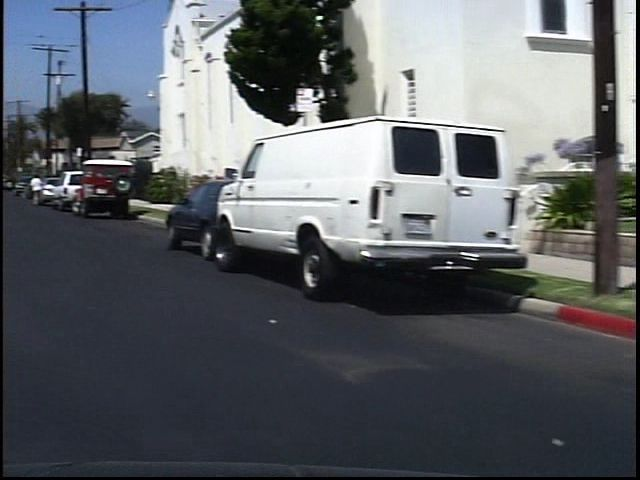car: (218, 104, 529, 304), (164, 176, 224, 254), (73, 159, 140, 216)
